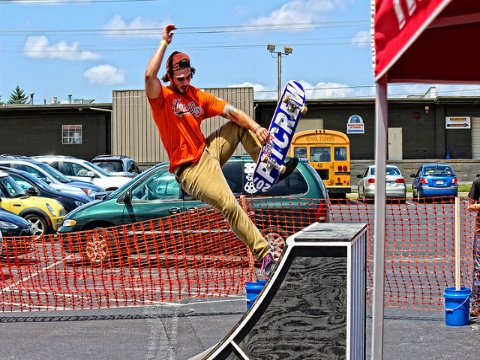hand: (162, 23, 178, 45), (254, 126, 272, 144)
